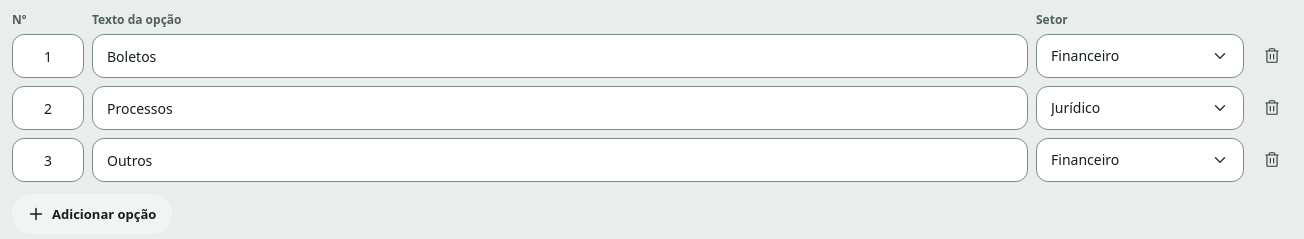
Test: TriageOptionsEditor › removes only the chosen row
The image size is (1304, 239).
Click the button named "Remover opção 2" at {"x": 1272, "y": 108}, box [1252,88,1292,128]
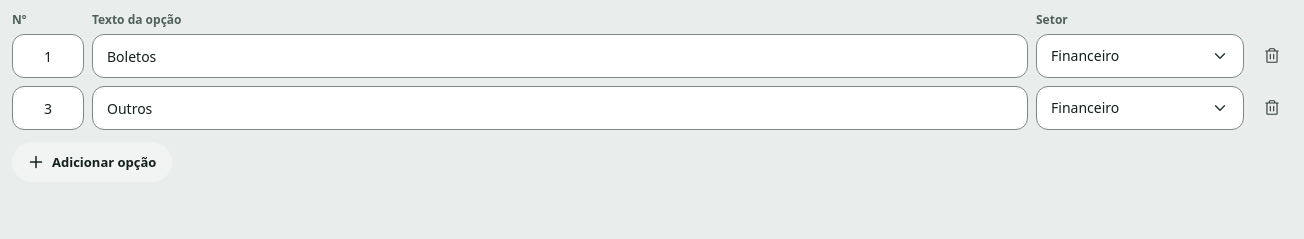
Now the number of buttons named "Remover opção" is 2, box [1252,36,1292,76]; [1252,88,1292,128]
